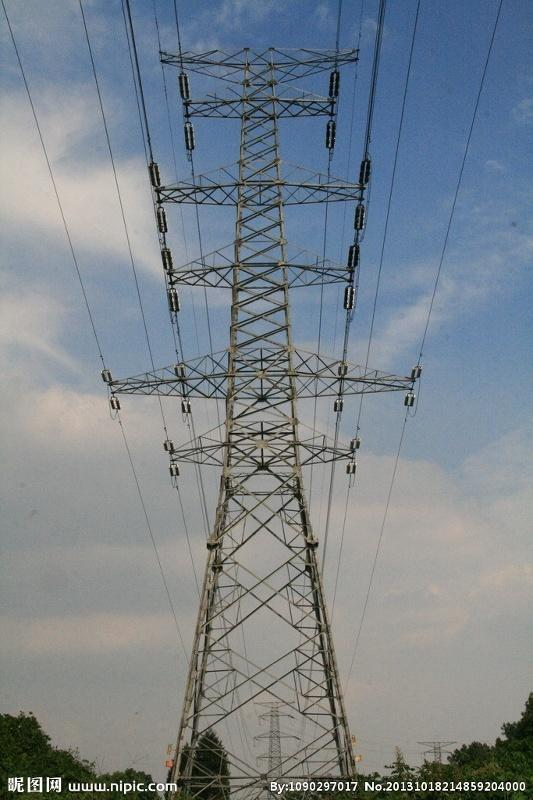power_tower: (100, 48, 422, 800), (252, 699, 296, 794), (418, 739, 457, 771)
